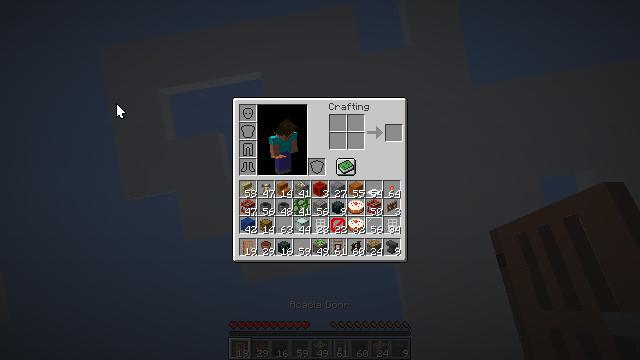cursor: (116, 103, 126, 119)
